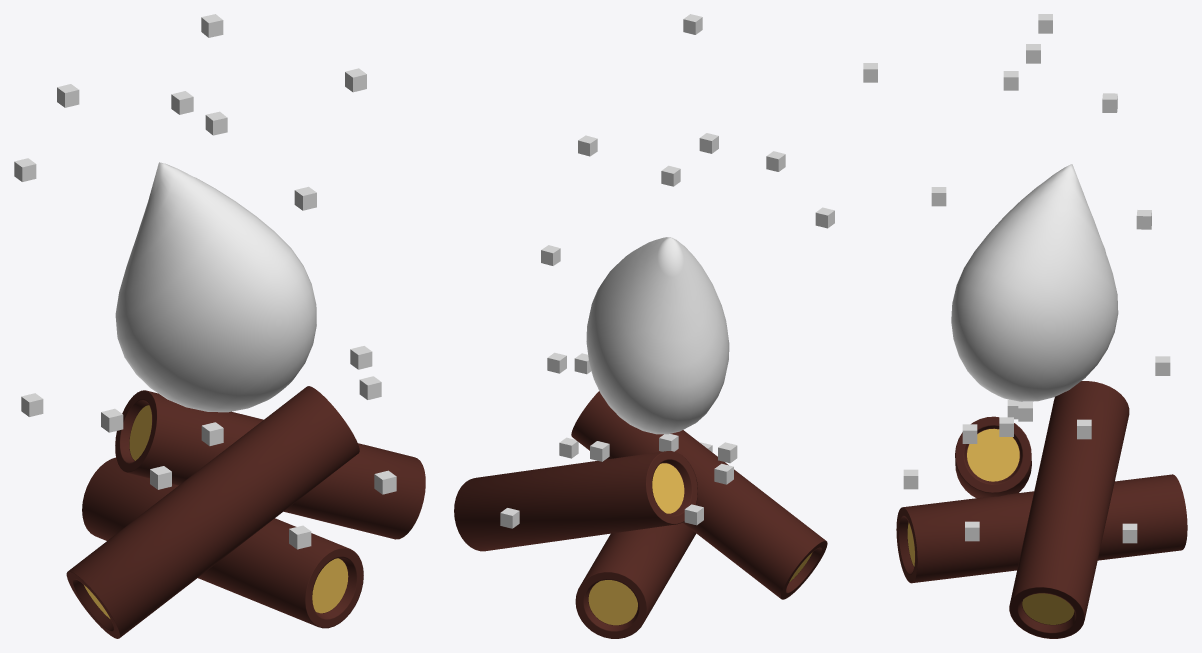
File: campfire.fbx
The picture shows the model from 3 angles, left to right: view 1: azimuth 30°, elevation 25°; view 2: azimuth 150°, elevation 25°; view 3: azimuth 270°, elevation 25°; orthographic projection. The views are drawn at different scales.
Parts seen in each view (by area): view 1: Sphere, Cylinder.001, Cylinder.003, Cylinder; view 2: Sphere, Cylinder.003, Cylinder.001, Cylinder; view 3: Sphere, Cylinder.003, Cylinder, Cylinder.001.
Boxes of the visible parts, x1,y1,x2,y2 form: Sphere: (115,162,316,412); Cylinder.001: (66,386,359,638); Cylinder.003: (115,390,425,539); Cylinder: (82,457,363,628); Sphere: (586,237,729,434); Cylinder.003: (454,451,697,551); Cylinder.001: (571,391,827,599); Cylinder: (575,523,696,638); Sphere: (951,164,1118,401); Cylinder.003: (1009,381,1129,638); Cylinder: (896,474,1187,583); Cylinder.001: (955,416,1031,498).
Bounding box in the file's own units: 451 × 599 × 342.
